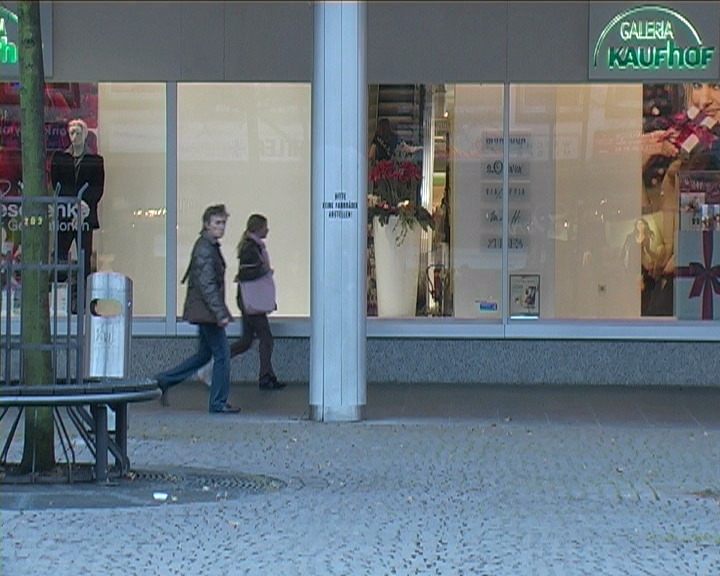deflection: (189, 200, 238, 302)
